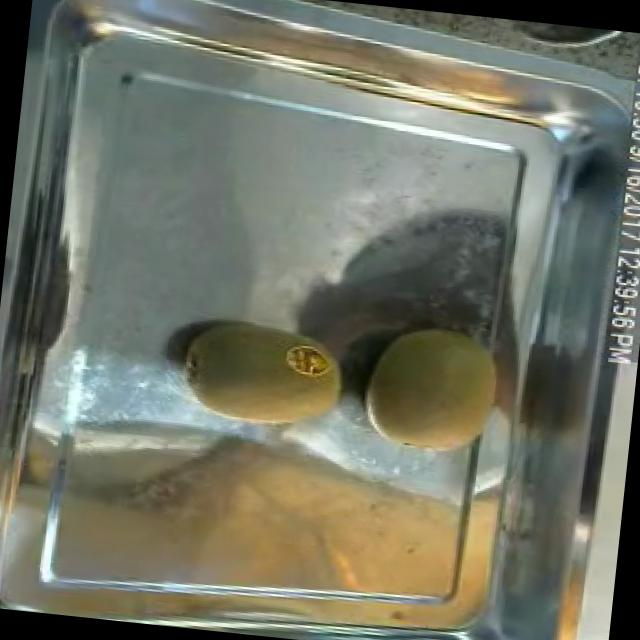Fruit: (166, 303, 362, 446), (348, 308, 512, 468)
